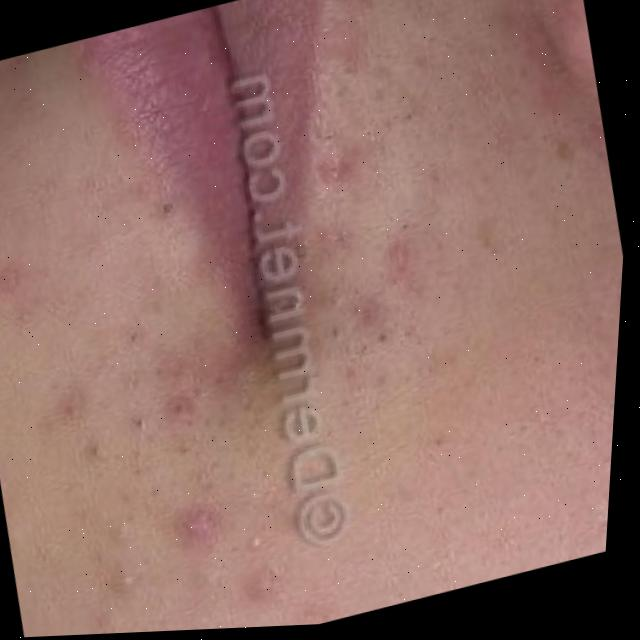Acne: (101, 411, 286, 634)
